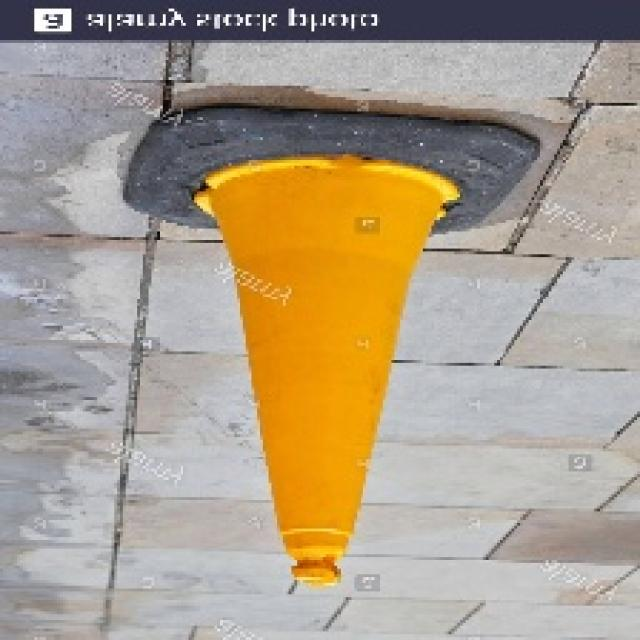cone: (117, 98, 542, 592)
